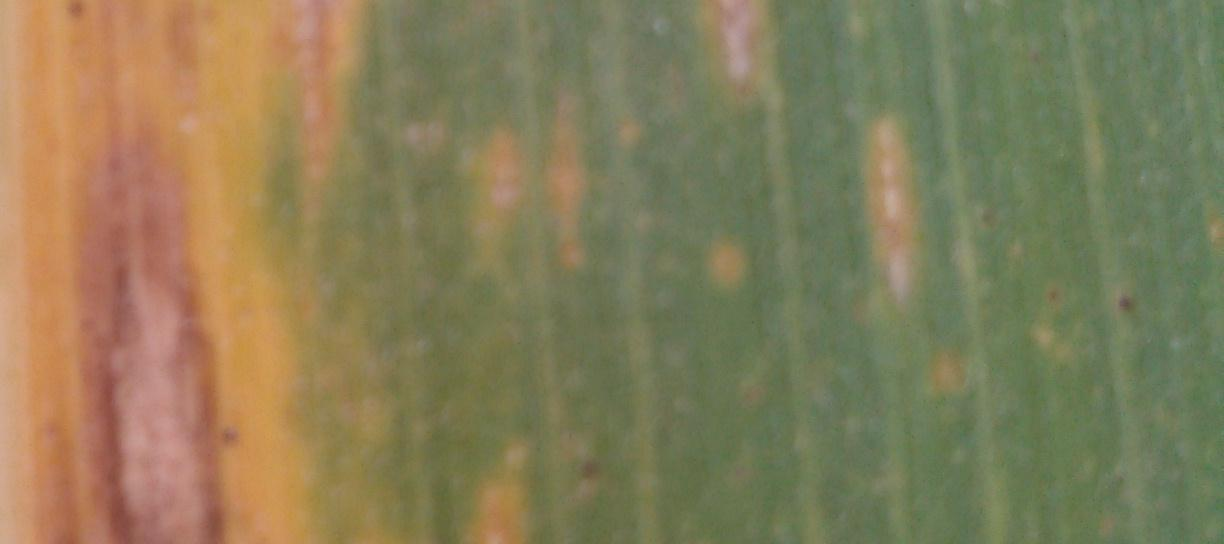tarspot: (1112, 285, 1149, 327), (1035, 277, 1072, 313), (976, 196, 1007, 235), (574, 448, 610, 481), (214, 419, 245, 452), (55, 1, 97, 25)
